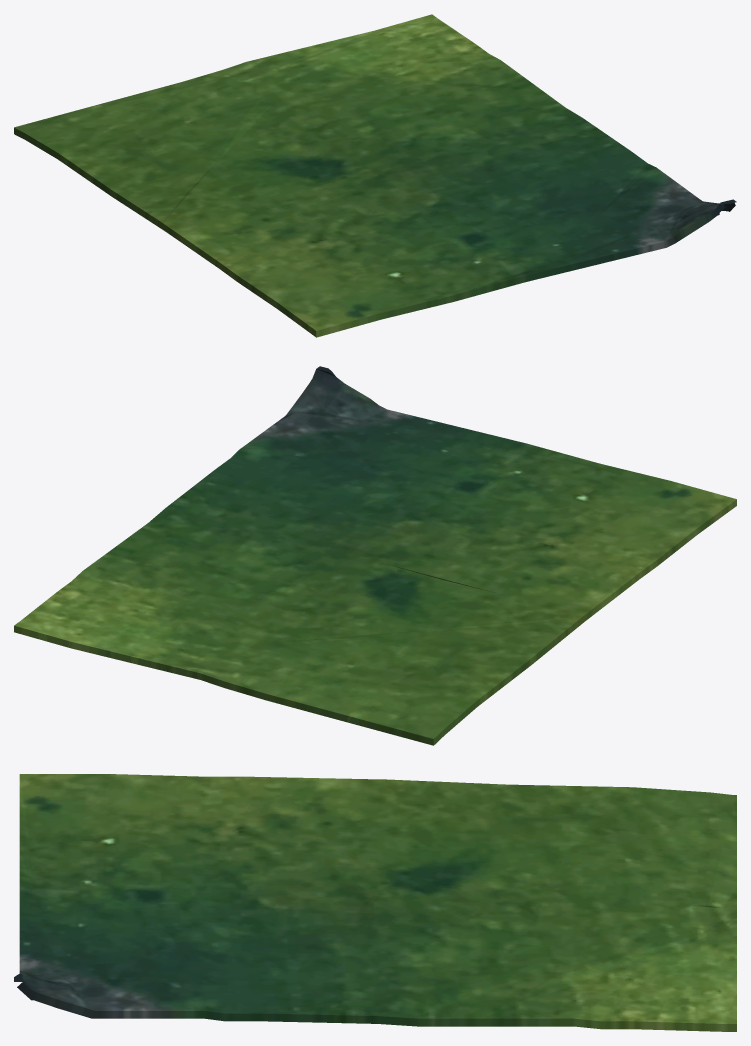
Rendered from BuildingMesh-00128.gltf.
The picture shows the model from 3 angles, top to bottom: view 1: azimuth 30°, elevation 25°; view 2: azimuth 150°, elevation 25°; view 3: azimuth 270°, elevation 25°; orthographic projection. The views are drawn at different scales.
Parts seen in each view (by area): view 1: BuildingMesh-00128; view 2: BuildingMesh-00128; view 3: BuildingMesh-00128.
Boxes of the visible parts, x1,y1,x2,y2 form: BuildingMesh-00128: (14, 14, 736, 337); BuildingMesh-00128: (14, 366, 736, 745); BuildingMesh-00128: (14, 774, 736, 1031).
Size of the model in its own units: 0.7765 by 0.0941 by 0.9804.
Materials: 1 (1 with a texture image).
